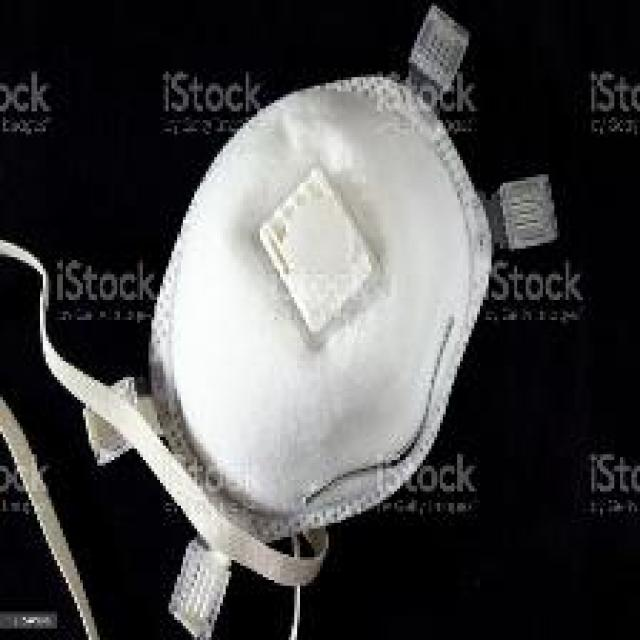Mask: (43, 76, 532, 619)
